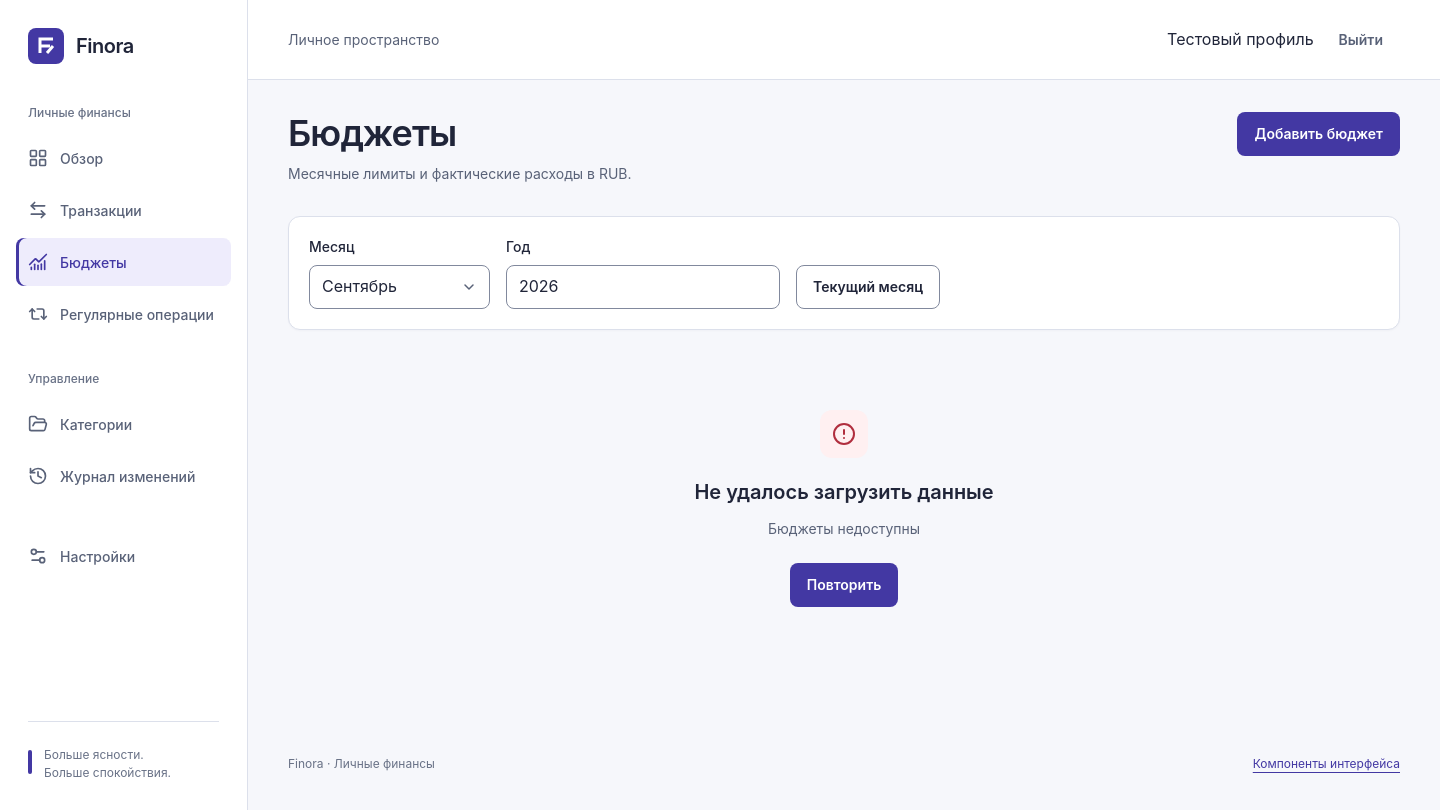
it: Budget list error → retry
Expected: the text "Бюджеты недоступны" is shown, [768,518,920,539]
Click the button "Повторить" at [844, 585], box [790,563,898,607]
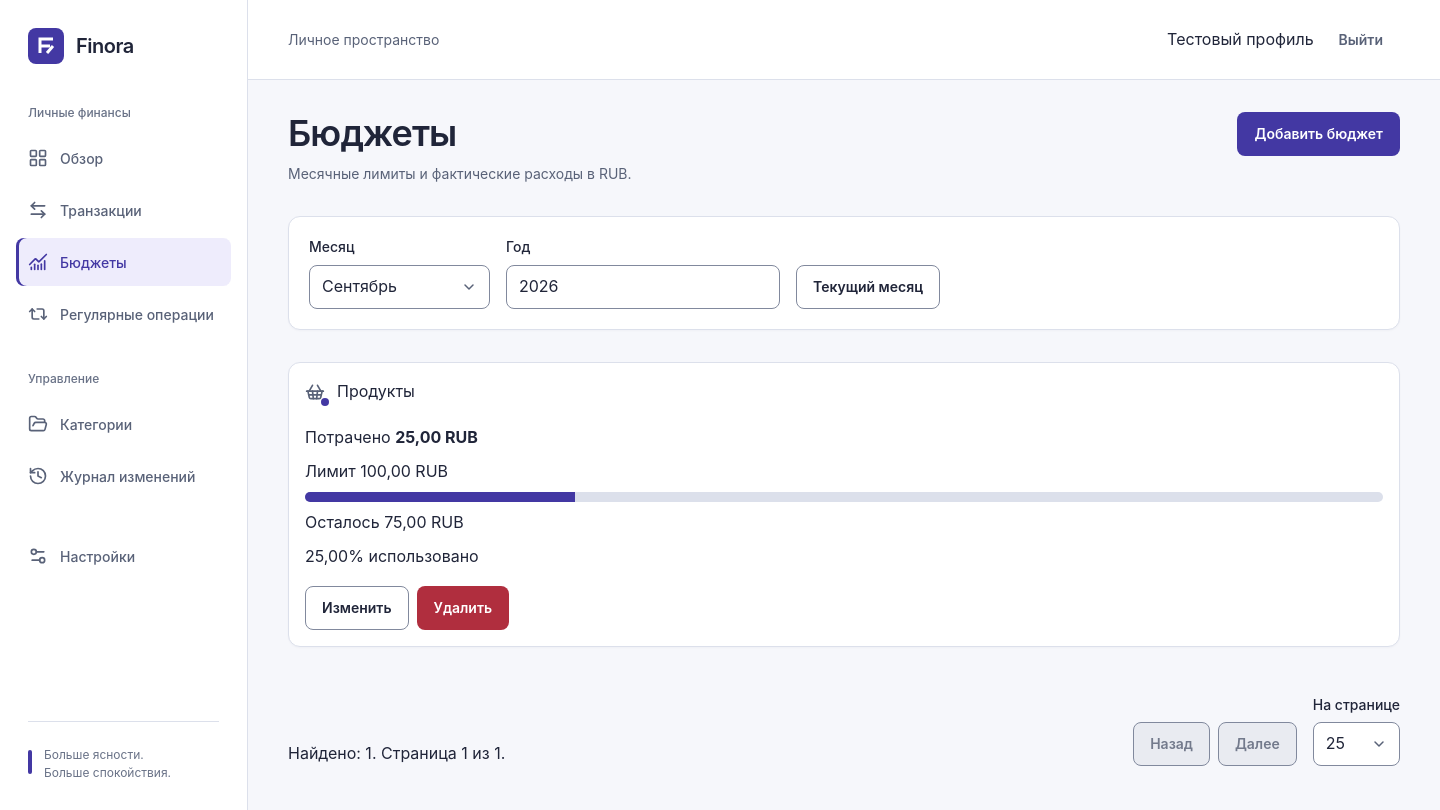
Expected: the progress indicator is shown, [305,492,1383,502]
